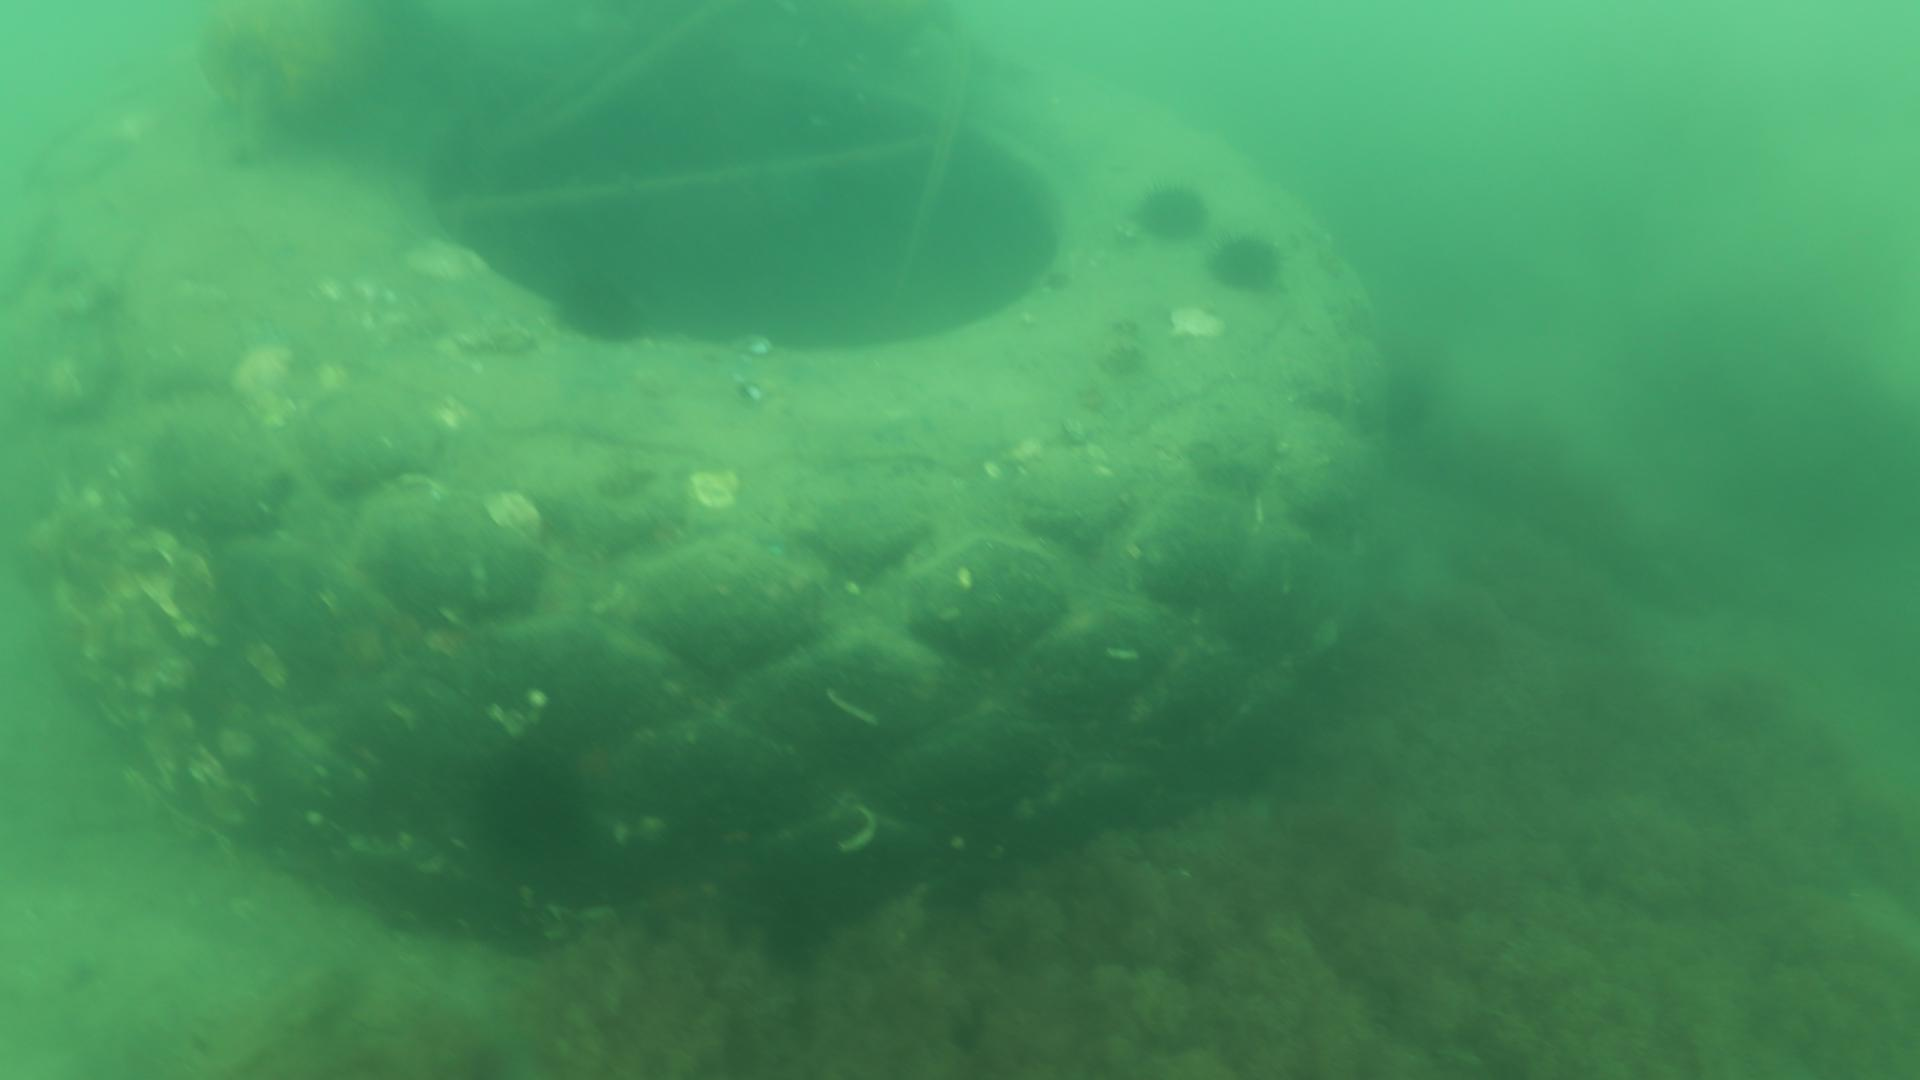tire: (0, 0, 1387, 953)
